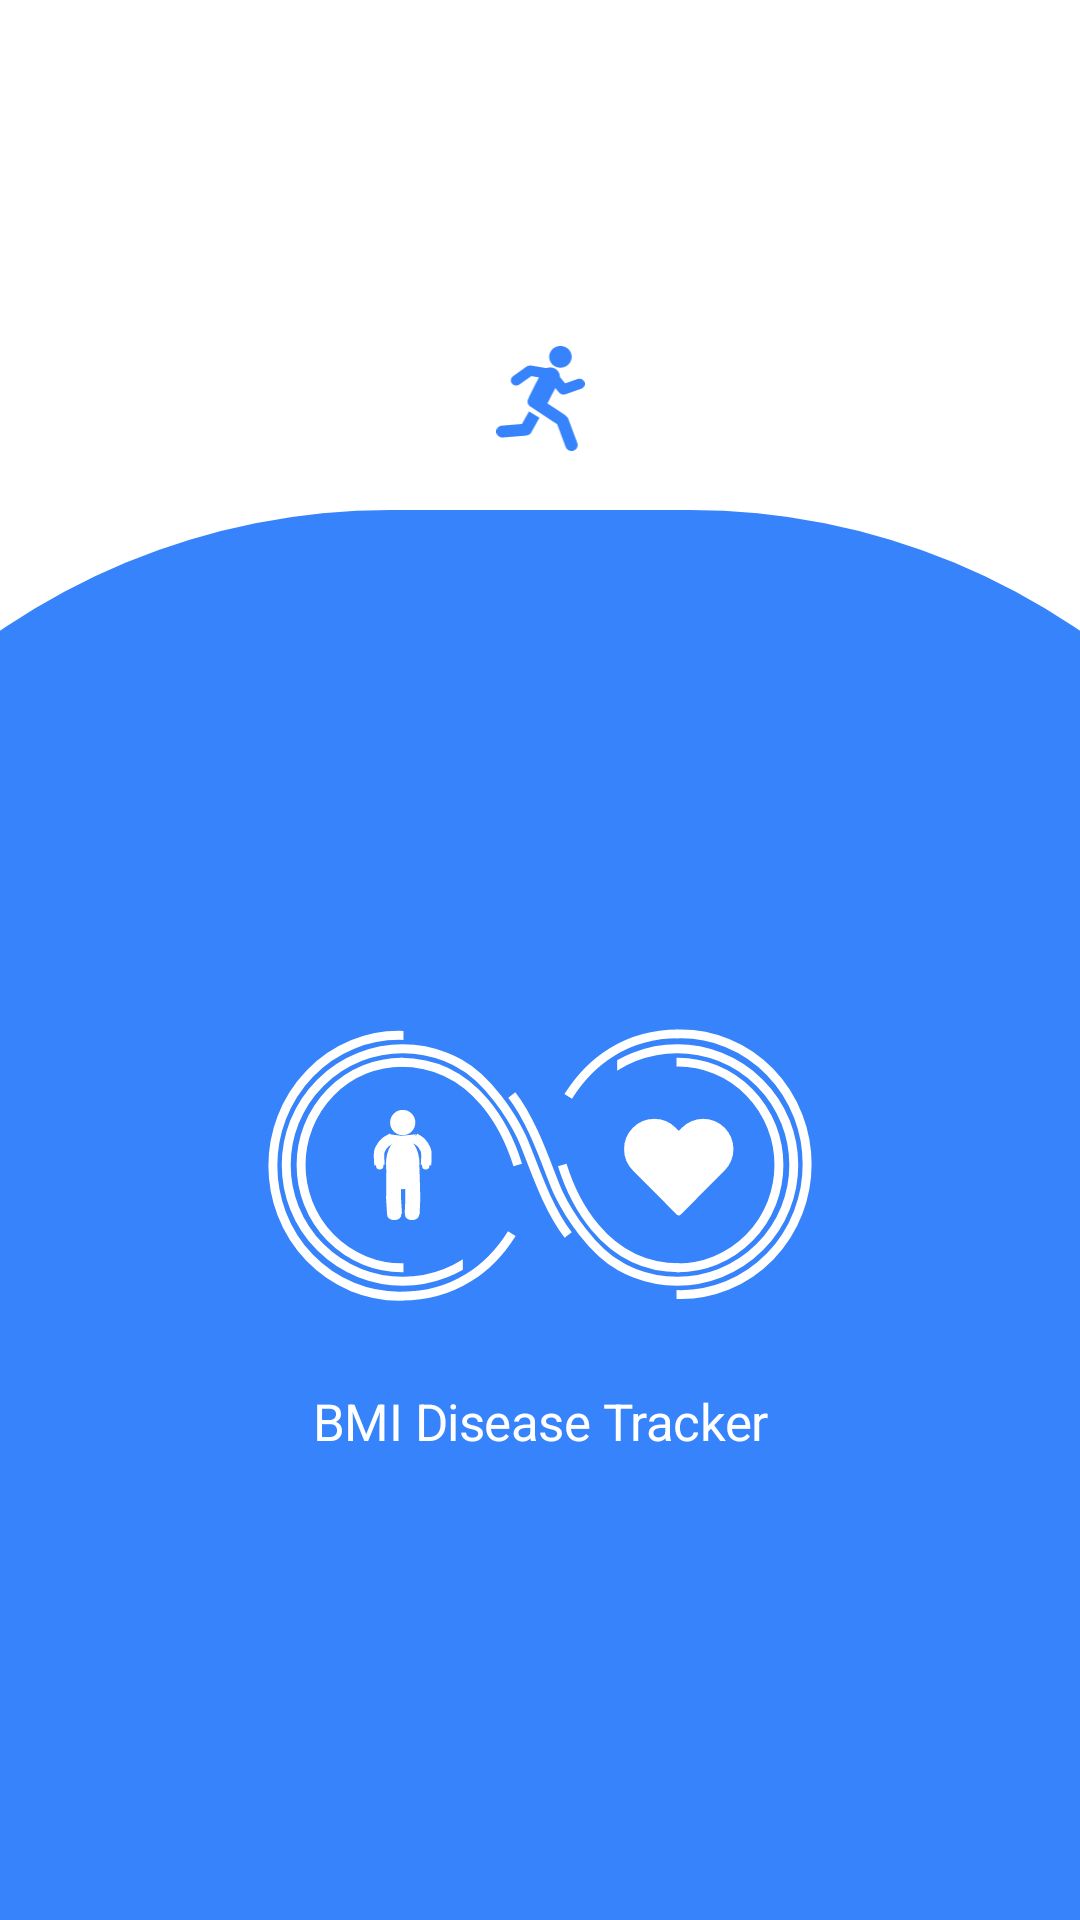

Where icons sit on this 1080 x 1920 app screen, as (x1, y1, x2, y2):
user run: (496, 346, 585, 451)
